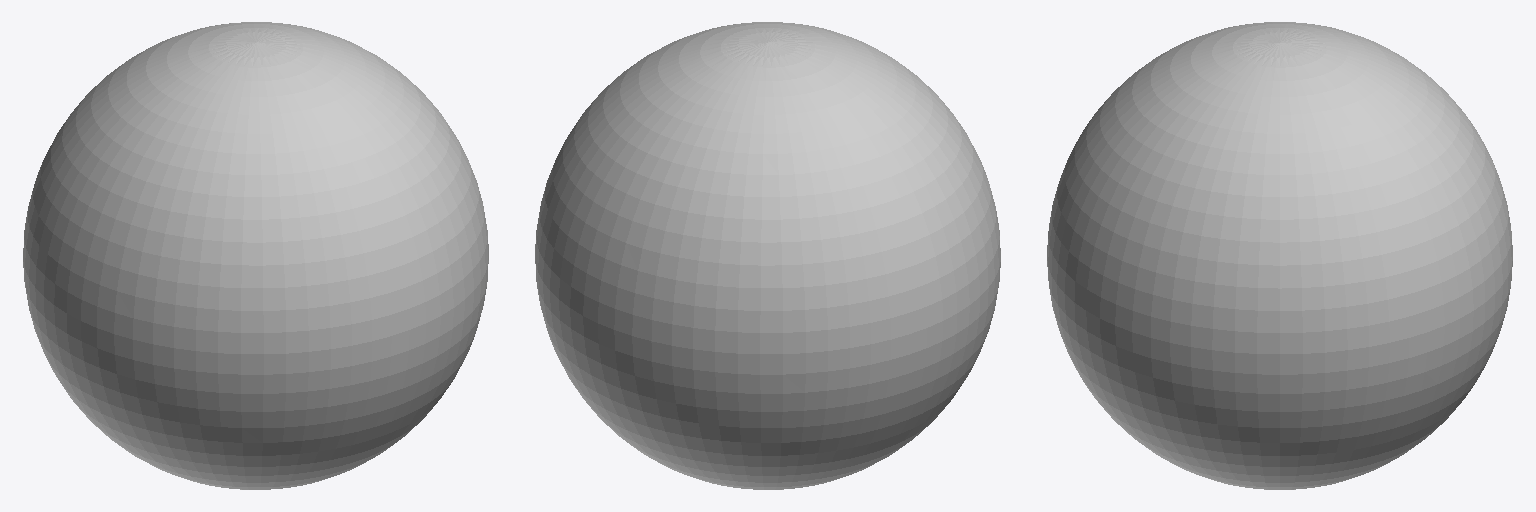
File: mercury.obj
3 views of the same model, side by side, from view 1: azimuth 30°, elevation 25°; view 2: azimuth 150°, elevation 25°; view 3: azimuth 270°, elevation 25° (orthographic).
Parts seen in each view (by area): view 1: Mercury; view 2: Mercury; view 3: Mercury.
Boxes of the visible parts, box(x1,y1,x2,y2) form: Mercury: box(23, 22, 488, 489); Mercury: box(535, 22, 1000, 489); Mercury: box(1047, 22, 1512, 489).
Size of the model in its own units: 0.4154 by 0.4198 by 0.4154.